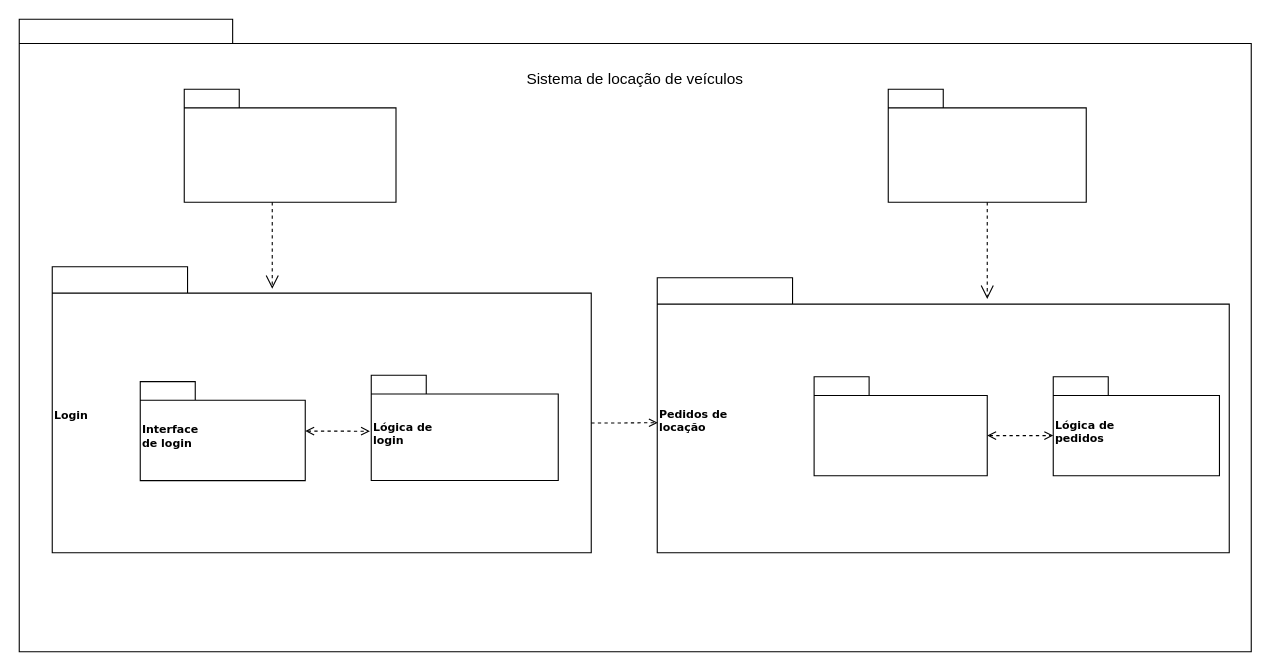
The diagram is 1271 pixels wide and 671 high, and some of its shapes have lost their labels. Each missing label, with the centre of its shape:
"Cadastro de usuário" goes at [289,145].
"Cadastro de veículos" goes at [986,145].
"Interface do pedido" goes at [900,426].
